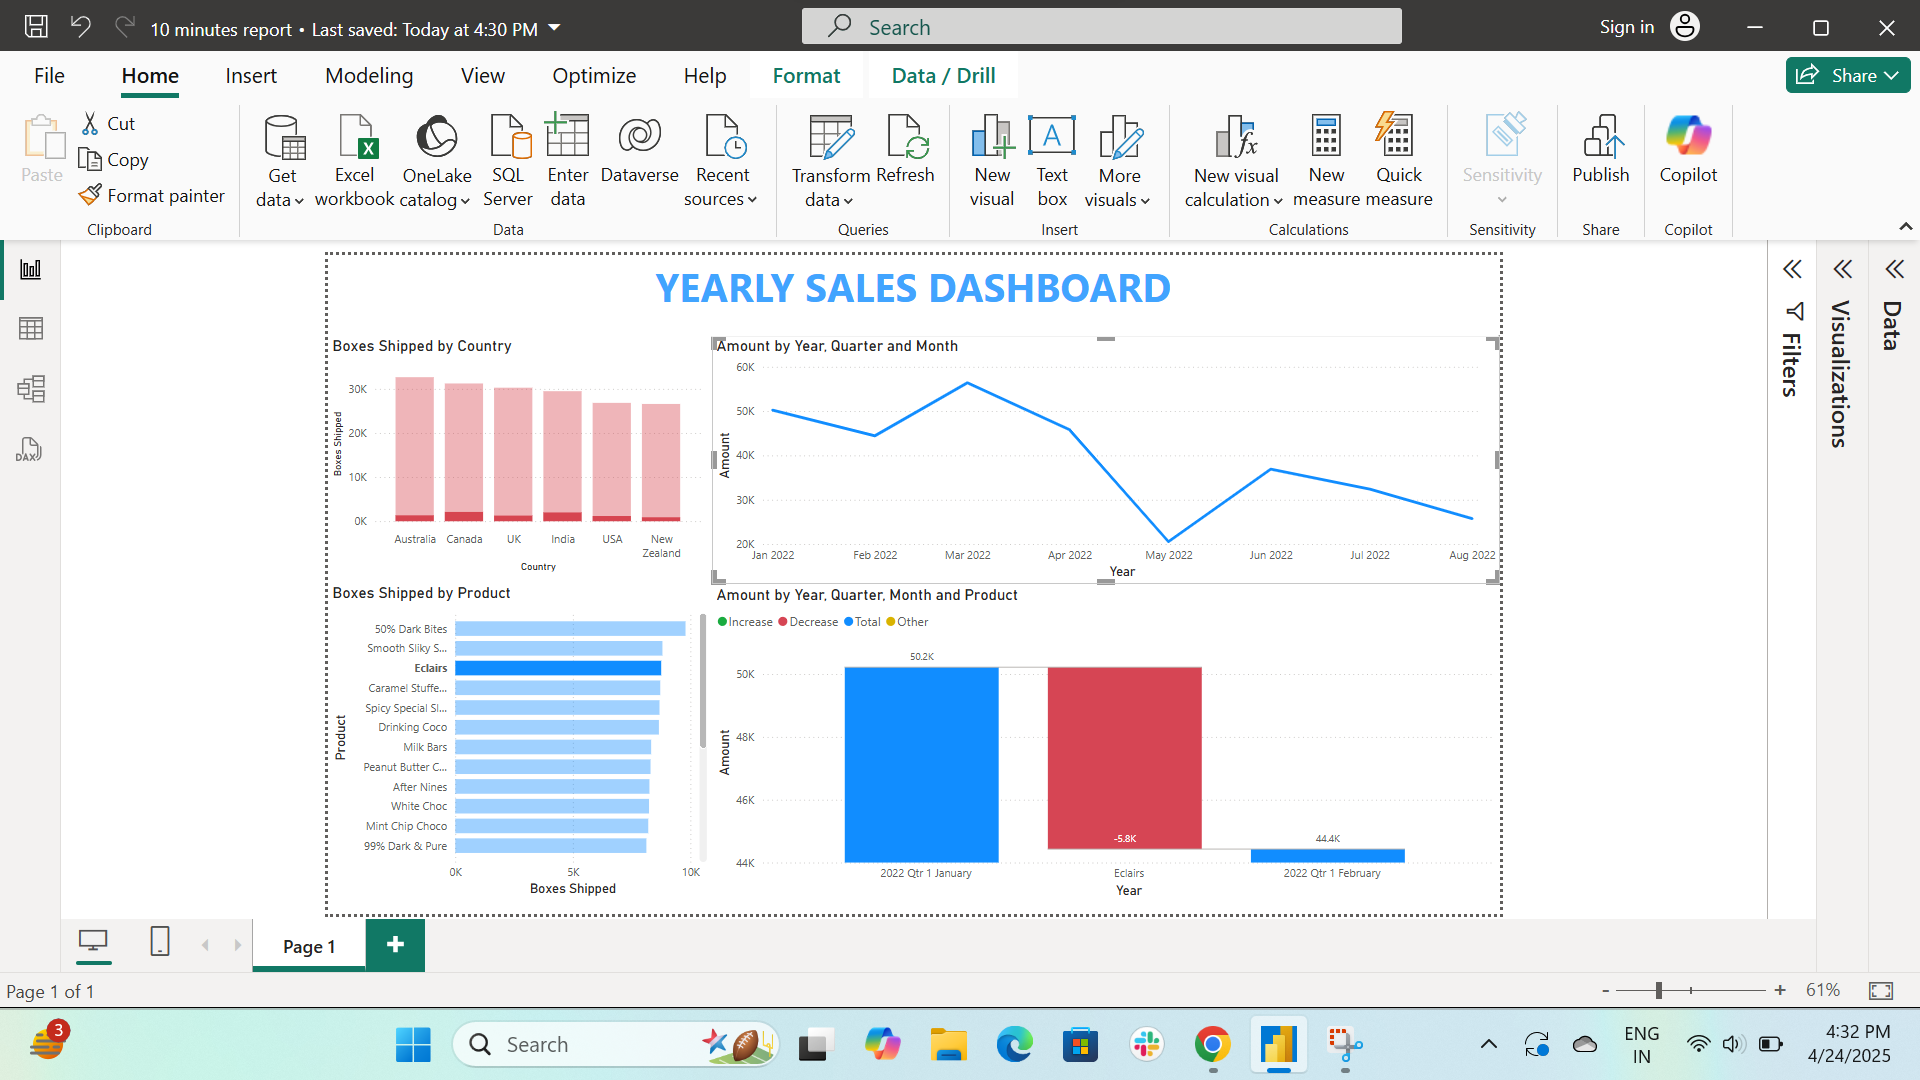

The dashboard page shown, as its layout file describes it:
{"tool":"powerbi","page":{"name":"Page 1","canvas":[1280,720],"ordinal":0},"visuals":[{"type":"columnChart","fields":{"Category":["data.Country"],"Y":["Sum(data.Boxes Shipped)"]},"box":[0,89.1,412.9,262.3],"z":0},{"type":"barChart","fields":{"Category":["data.Product"],"Y":["Sum(data.Boxes Shipped)"]},"box":[0,359.5,419.4,346.5],"z":1000},{"type":"lineChart","fields":{"Category":["data.Date.Variation.Date Hierarchy.Year","data.Date.Variation.Date Hierarchy.Quarter","data.Date.Variation.Date Hierarchy.Month","data.Date.Variation.Date Hierarchy.Day"],"Y":["Sum(data.Amount)"]},"box":[419.4,89.1,861.4,270.4],"z":2000},{"type":"waterfallChart","fields":{"Category":["data.Date.Variation.Date Hierarchy.Year","data.Date.Variation.Date Hierarchy.Quarter","data.Date.Variation.Date Hierarchy.Month"],"Breakdown":["data.Product"],"Y":["Sum(data.Amount)"]},"box":[420,360,860,346],"z":3000},{"type":"textbox","box":[0,0,1279.2,89.1],"z":3001}]}

Visuals, with their boxes on the page's 1280x720 design canvas (x1, y1, x2, y2). These are canvas units, not pixel positions in the 1920x1080 screenshot, which may show the page scaled, cropped or inside an application window:
columnChart - data.Country x Sum(data.Boxes Shipped): x1=0, y1=89, x2=413, y2=351
barChart - data.Product x Sum(data.Boxes Shipped): x1=0, y1=360, x2=419, y2=706
lineChart - data.Date.Variation.Date Hierarchy.Year x data.Date.Variation.Date Hierarchy.Quarter: x1=419, y1=89, x2=1281, y2=360
waterfallChart - data.Date.Variation.Date Hierarchy.Year x data.Date.Variation.Date Hierarchy.Quarter: x1=420, y1=360, x2=1280, y2=706
textbox: x1=0, y1=0, x2=1279, y2=89
